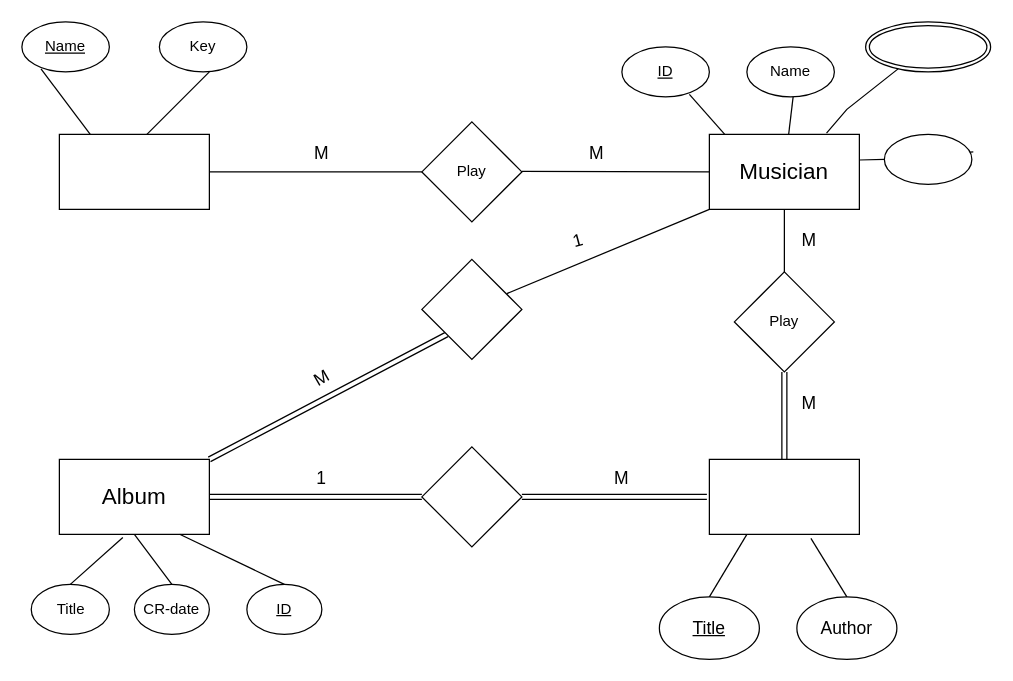
The diagram is 1013 pixels wide and 681 high, and some of its shapes have lost their labels. The centre of each missing label's shape, as x and y in pixels:
Address: pixel 927 46
Appears at: pixel 471 496
Has: pixel 471 308
Instrument: pixel 133 171
Phone_no: pixel 927 158
Song: pixel 783 496
